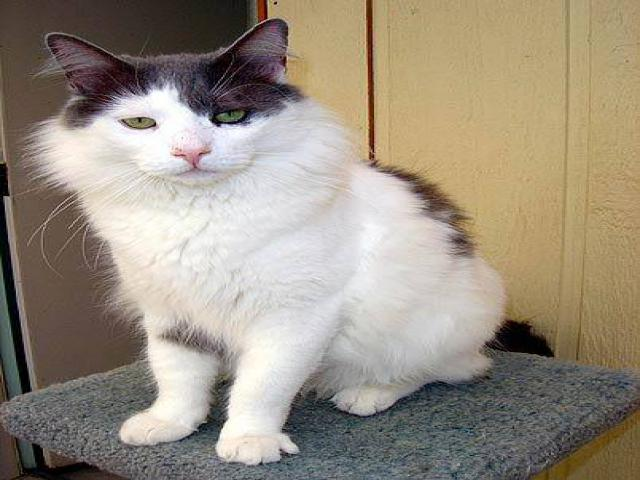cat: (24, 14, 512, 464)
